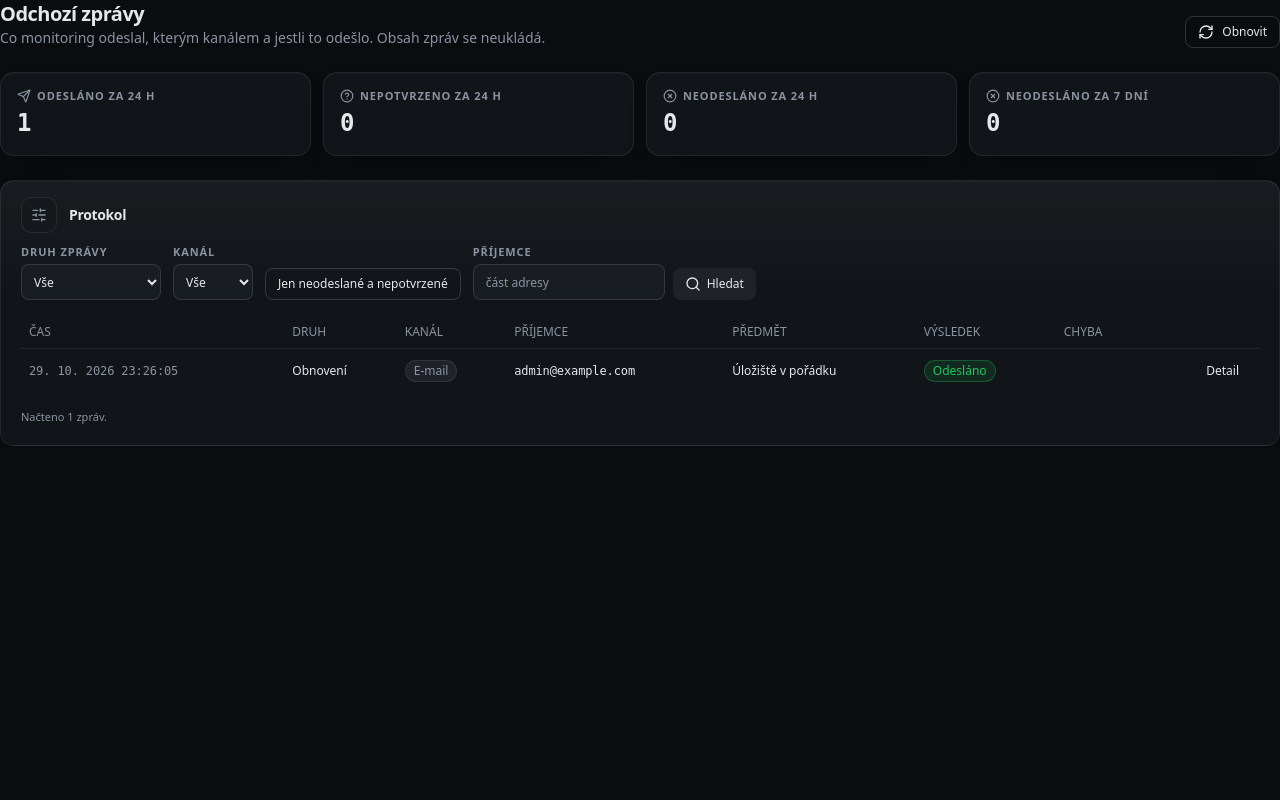
Scenario: Odchozí zprávy › obnovení se nejmenuje výstraha výpadku, ani v detailu
Expected: the text "Obnovení" is shown, top-left (284, 348), bottom-right (397, 393)
Step 1. Click the button "Detail" → (1223, 371), box top-left (1194, 355), bottom-right (1251, 387)
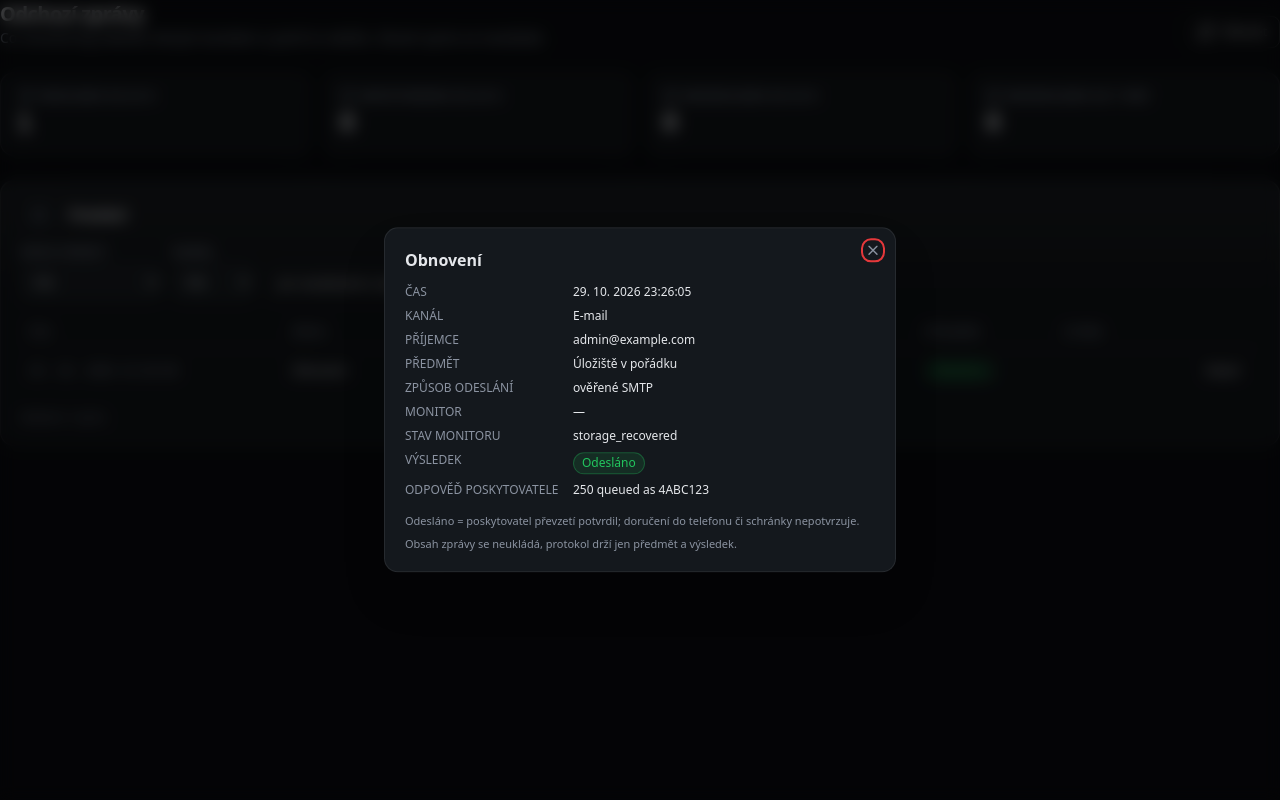
Expected: the dialog shows "Obnovení", top-left (405, 249), bottom-right (482, 271)
